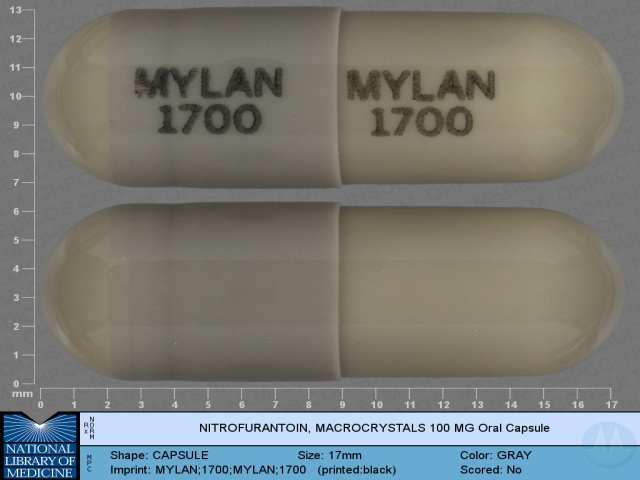capsule: (40, 200, 627, 383), (38, 7, 625, 190)
